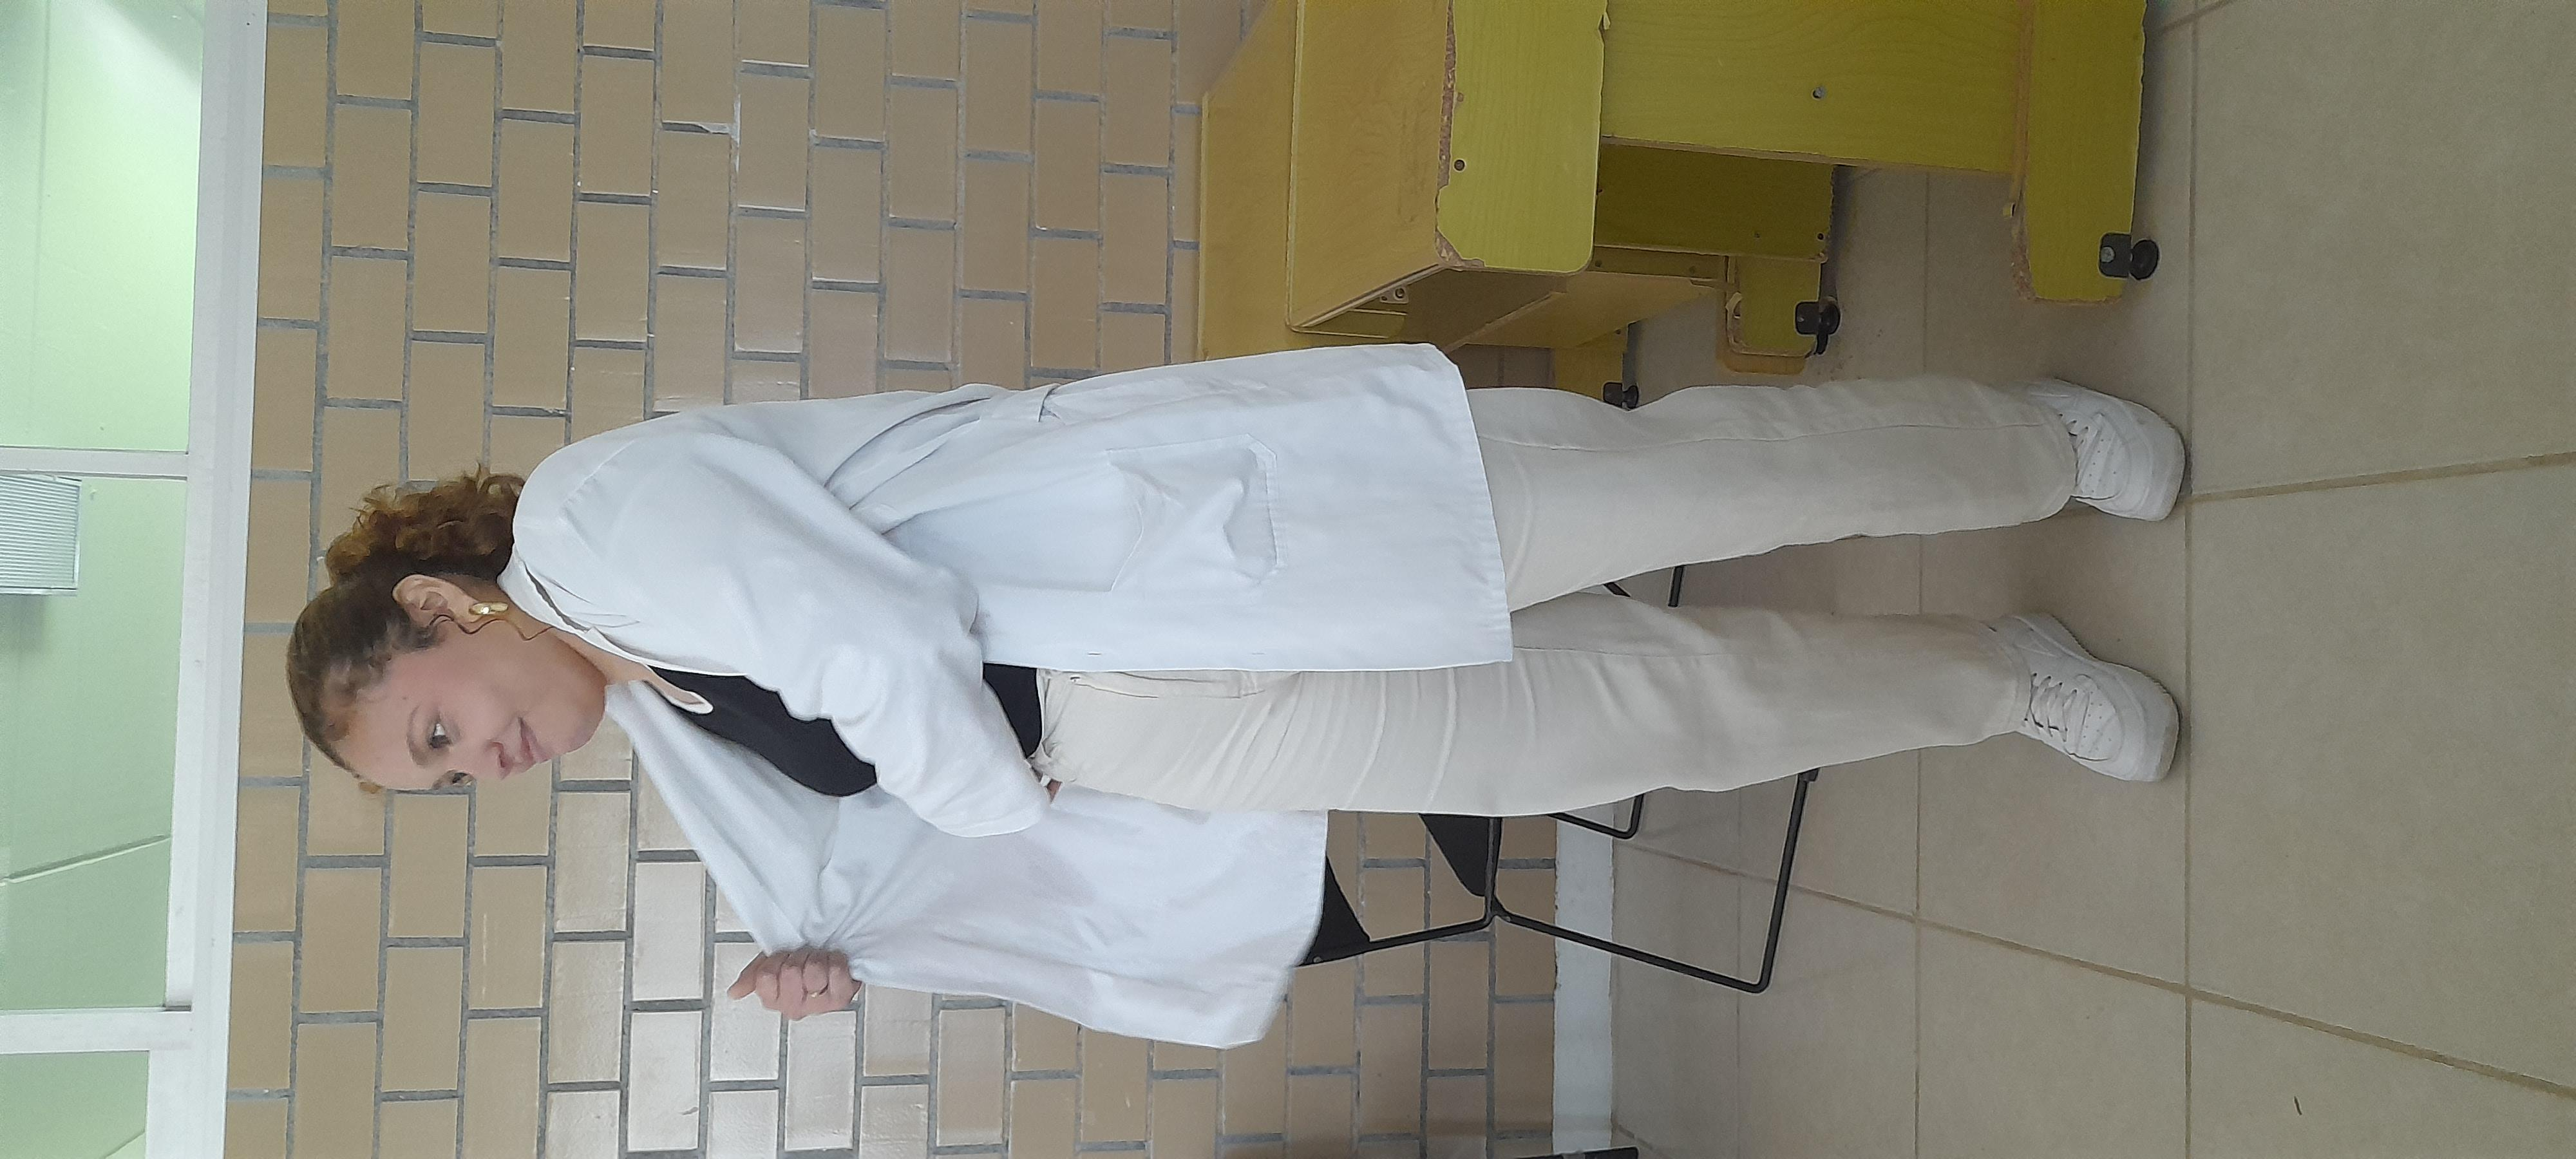Bata-Incorrecta: (215, 110, 2047, 1005)
